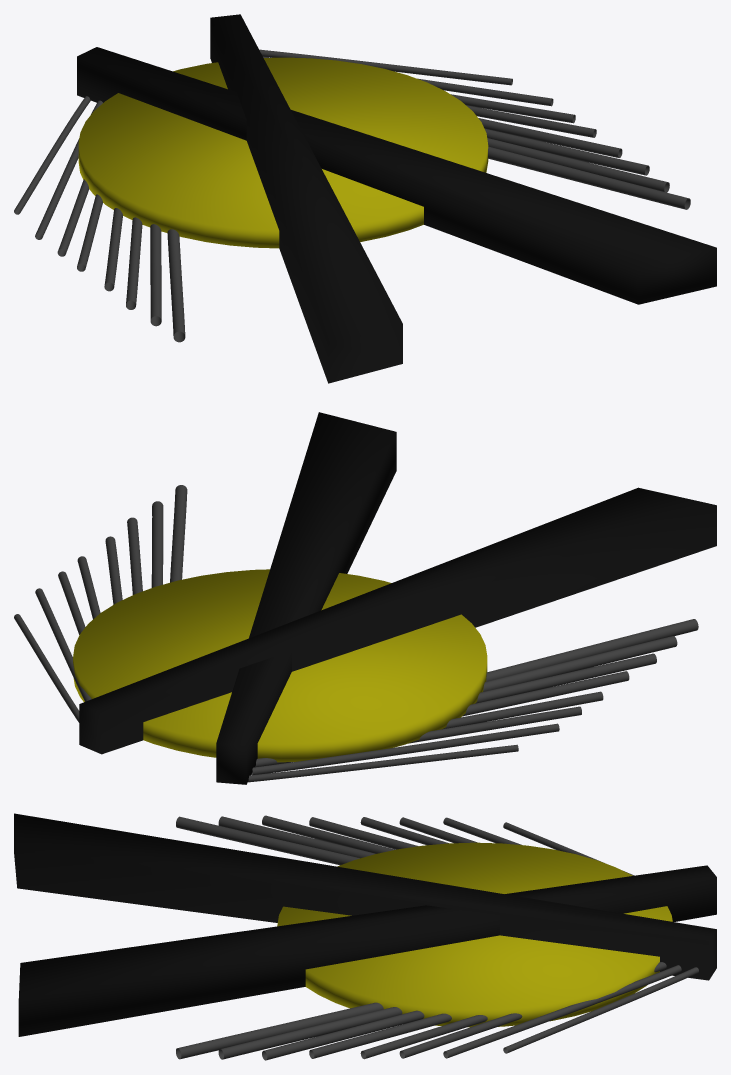
File: saoPauloBackground.dae
3 renders of one model, top to bottom at view 1: azimuth 30°, elevation 25°; view 2: azimuth 150°, elevation 25°; view 3: azimuth 270°, elevation 25°, orthographic. The views are drawn at different scales.
Parts seen in each view (by area): view 1: sun, pylonLeft, pylonRight, ropesRight, ropesLeft; view 2: sun, pylonRight, pylonLeft, ropesLeft, ropesRight; view 3: pylonRight, pylonLeft, sun, ropesRight, ropesLeft.
Boxes of the visible parts, bbox=[...] form: sun: bbox=[78, 57, 488, 248]; pylonLeft: bbox=[77, 47, 716, 304]; pylonRight: bbox=[210, 14, 402, 383]; ropesRight: bbox=[259, 49, 690, 209]; ropesLeft: bbox=[14, 96, 185, 342]; sun: bbox=[73, 569, 487, 762]; pylonRight: bbox=[79, 487, 716, 754]; pylonLeft: bbox=[216, 412, 396, 784]; ropesLeft: bbox=[248, 619, 698, 782]; ropesRight: bbox=[14, 485, 187, 722]; pylonRight: bbox=[14, 813, 716, 980]; pylonLeft: bbox=[18, 865, 716, 1036]; sun: bbox=[277, 842, 672, 1027]; ropesRight: bbox=[176, 962, 698, 1060]; ropesLeft: bbox=[176, 815, 634, 875].
Size of the model in its own units: 9.02 by 0.7511 by 10.84.
